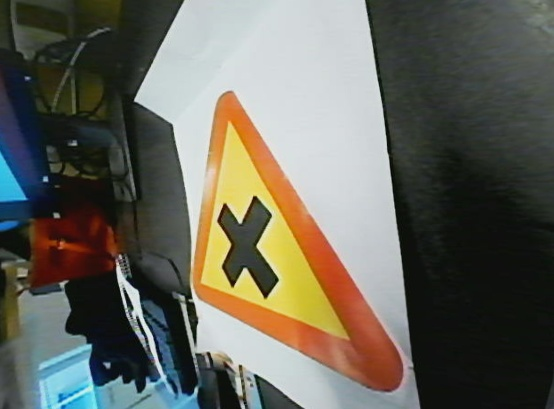junction: (184, 85, 406, 398)
